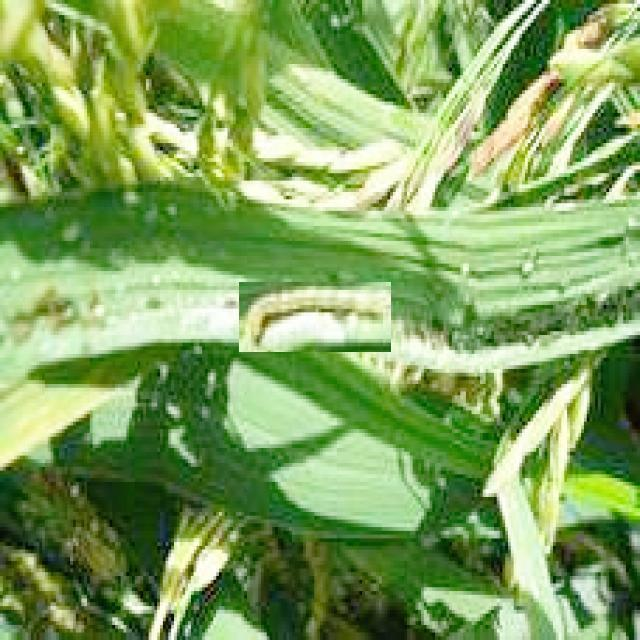leaf-folder: (239, 282, 391, 352)
